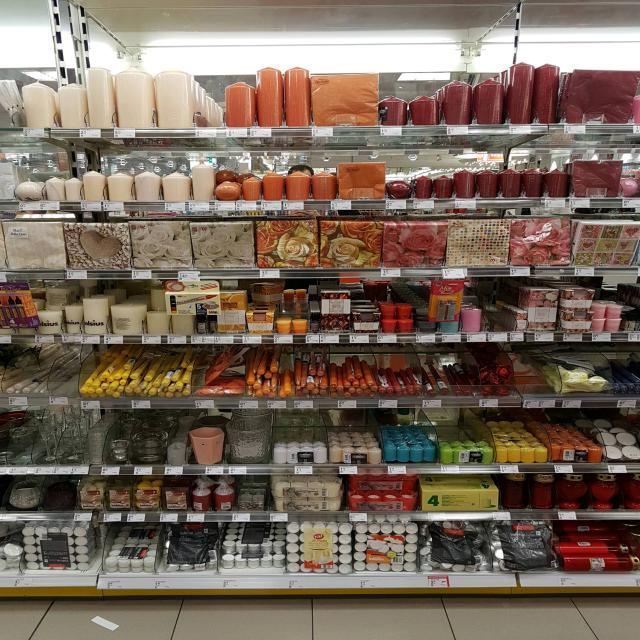empty: (55, 343, 86, 402), (487, 279, 516, 338)
